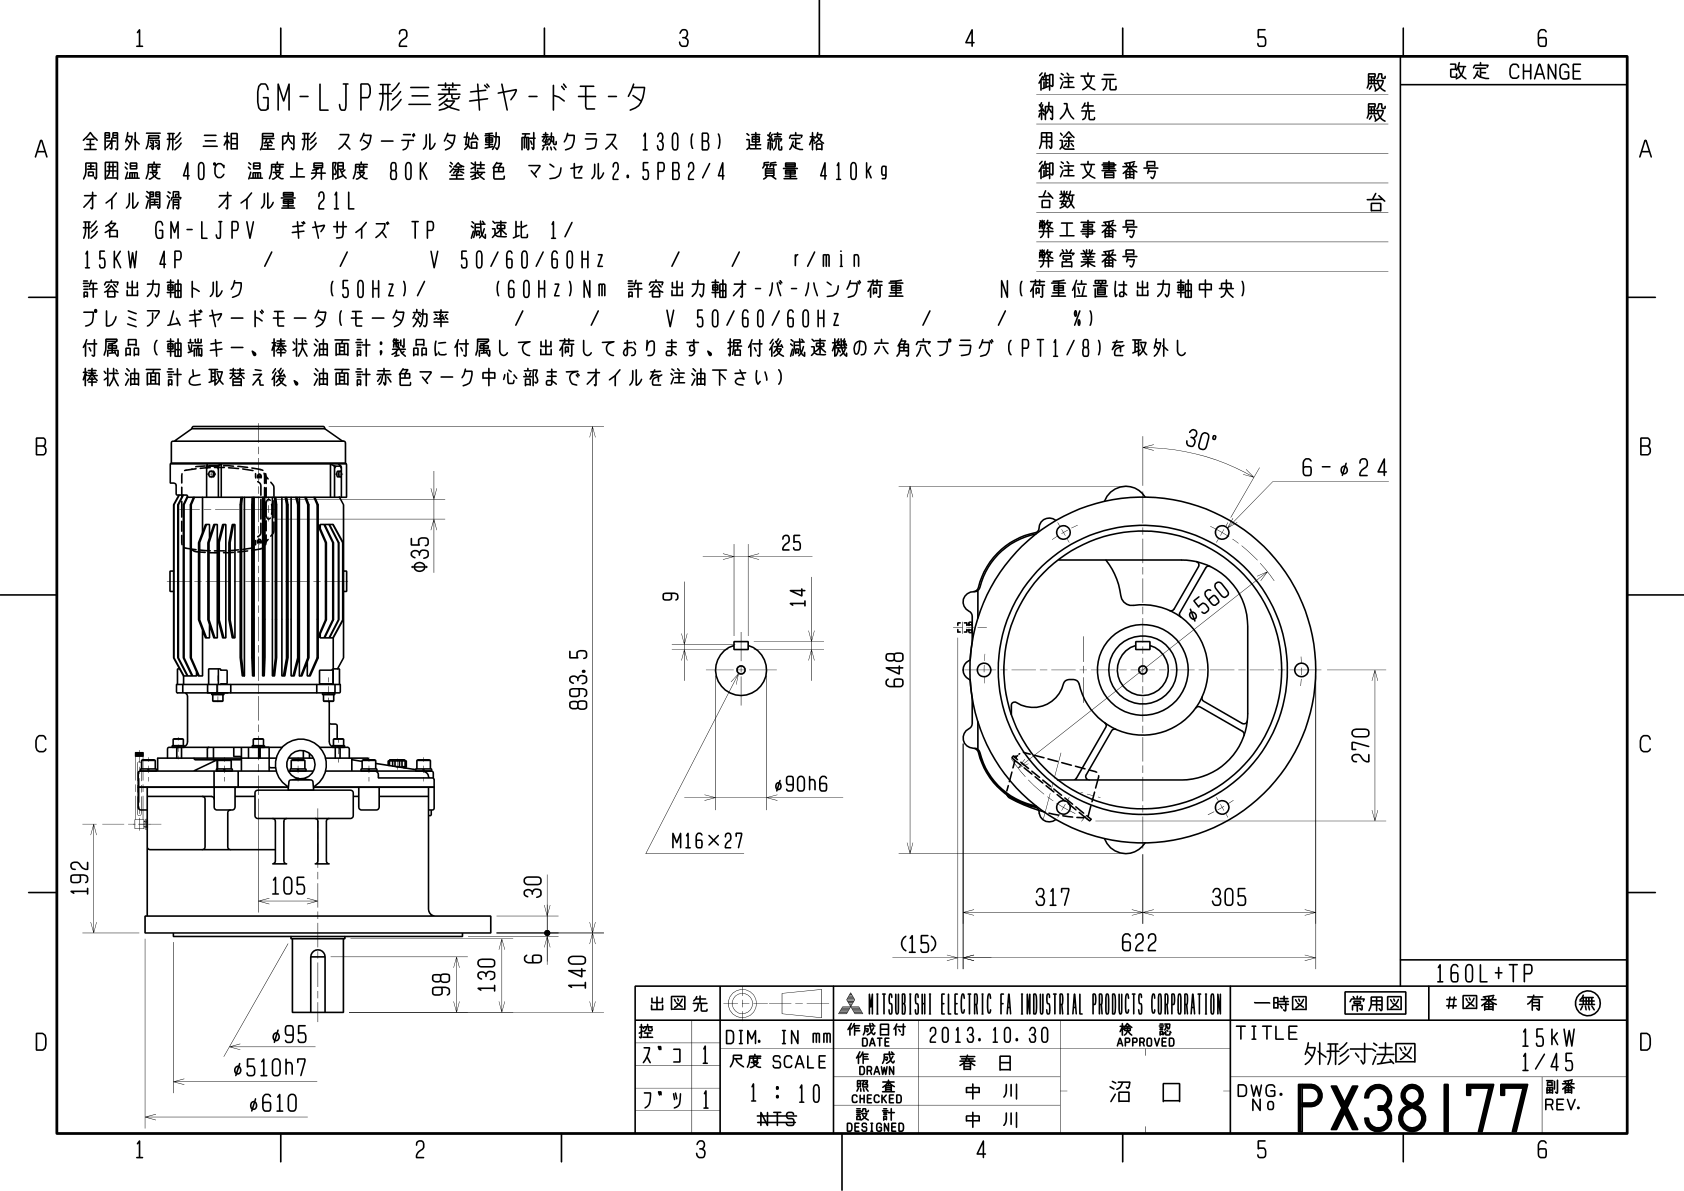GM_LJP_屋内_三相_立: (6, 6, 1684, 1191)
